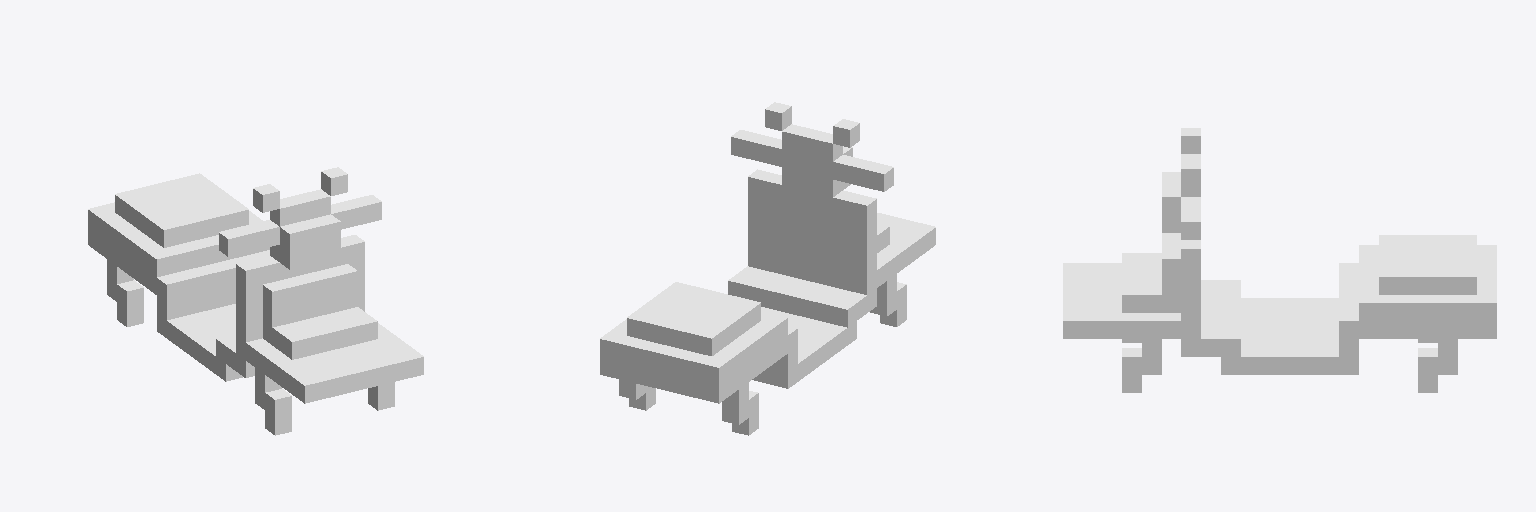
Rendered from moto2.obj.
The picture shows the model from 3 angles: view 1: azimuth 30°, elevation 25°; view 2: azimuth 150°, elevation 25°; view 3: azimuth 270°, elevation 25°; orthographic projection.
Visible parts, largest first — view 1: moto2; view 2: moto2; view 3: moto2.
Boxes of the visible parts, x1,y1,x2,y2 form: moto2: [88, 167, 423, 435]; moto2: [600, 102, 935, 435]; moto2: [1063, 128, 1496, 392].
Size of the model in its own units: 0.9 by 1.2 by 2.2.